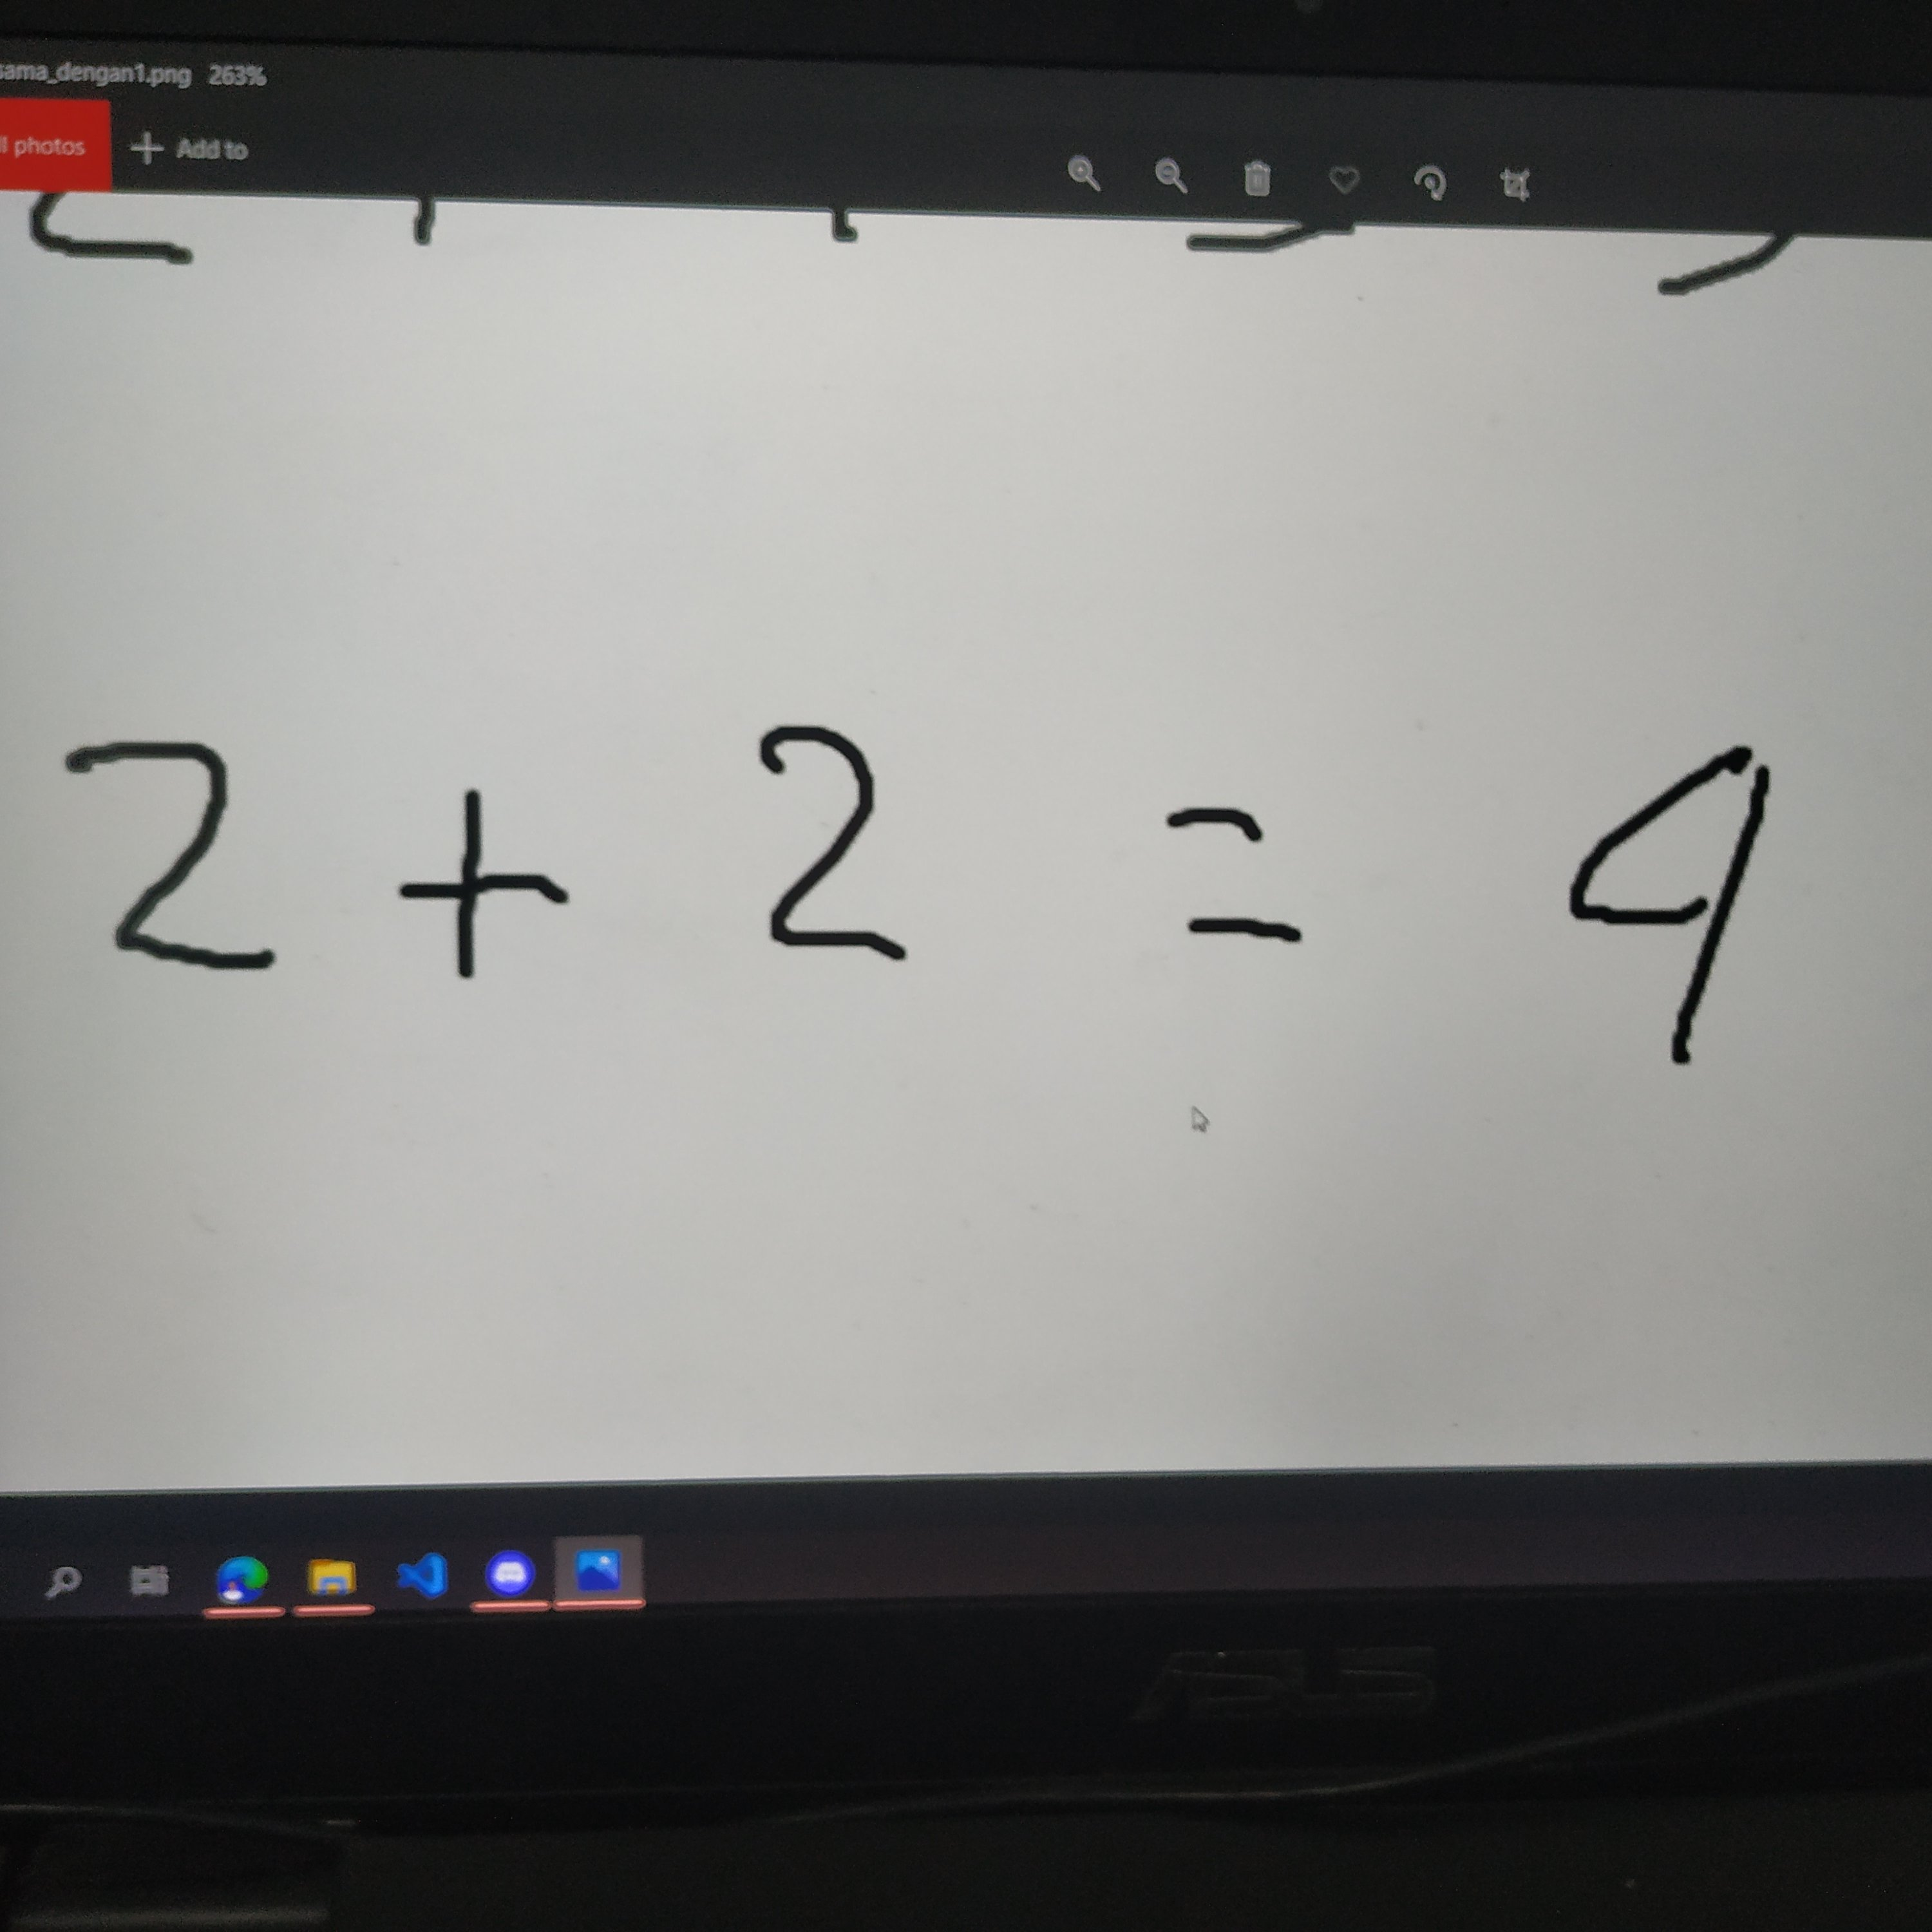equal: (1131, 785, 1359, 978)
num2: (48, 724, 312, 1005), (723, 708, 954, 989)
num4: (1523, 723, 1797, 1082)
sum: (372, 775, 603, 982)
